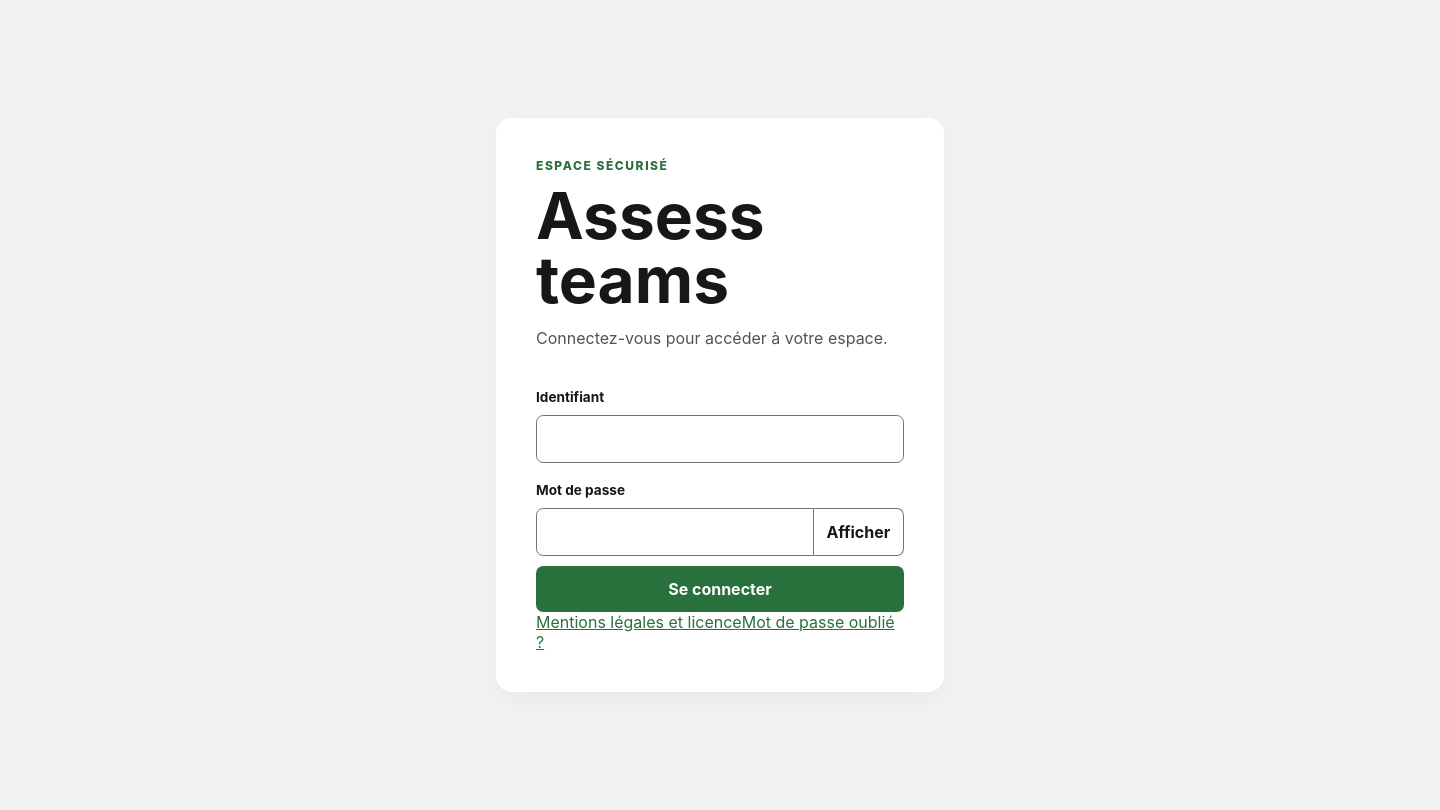
shows the wait and allows login after the restriction expires
Type "member" into the field labelled "Identifiant" at (720, 439), box left=536, top=415, right=904, bottom=462
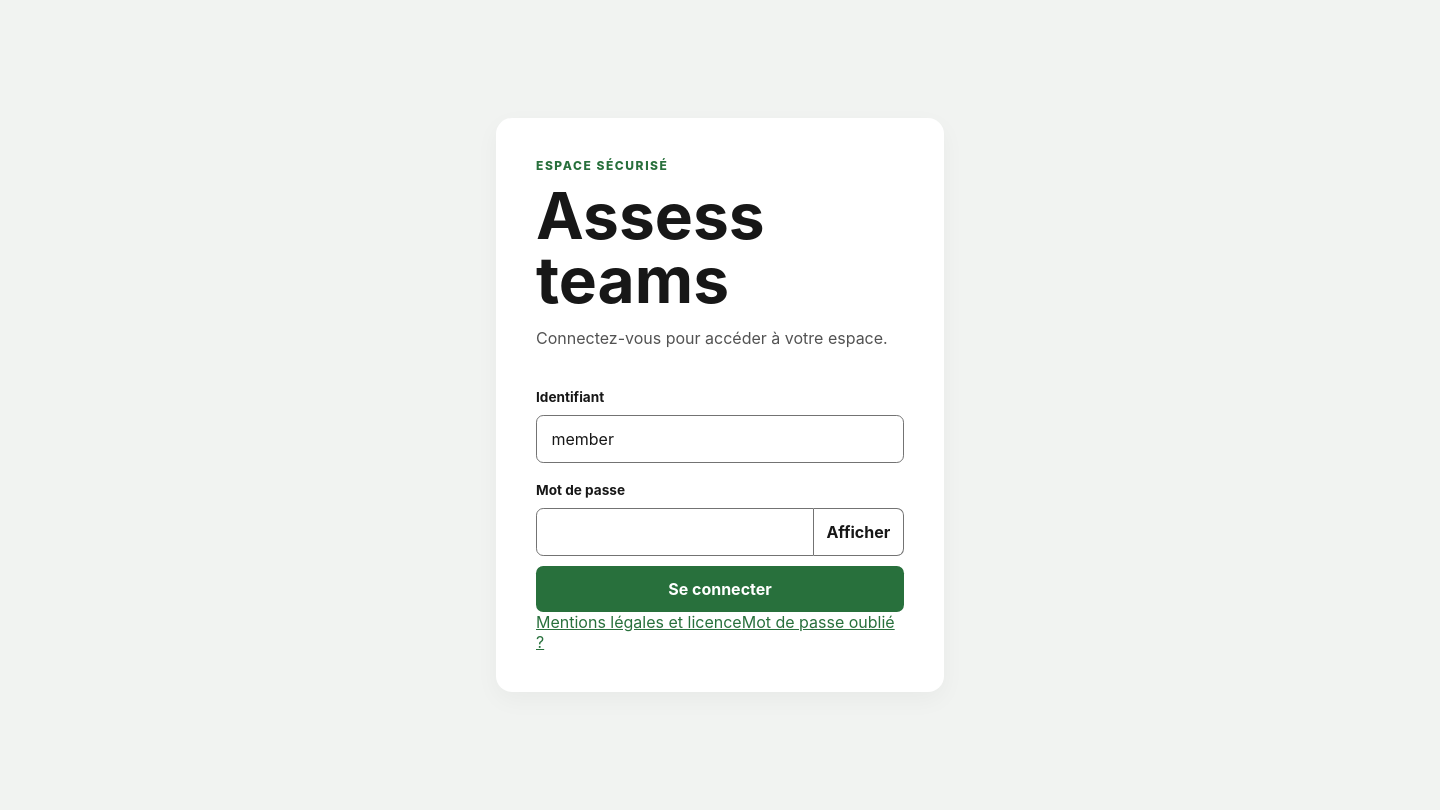
Type "test-only-credential" into the password field labelled "Mot de passe" at (675, 532), box left=536, top=508, right=814, bottom=556
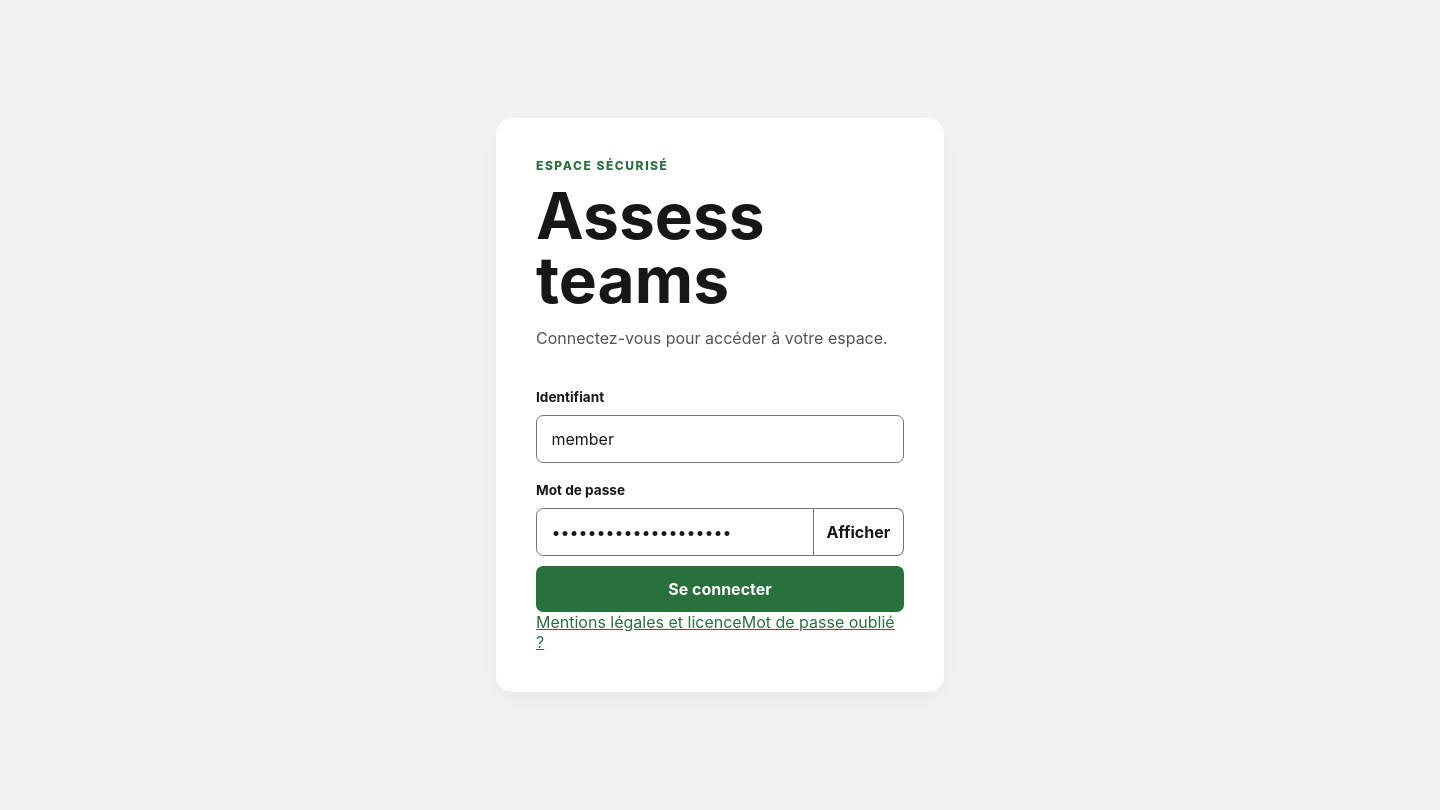
Click the button "Se connecter" at (720, 589), box left=536, top=566, right=904, bottom=612
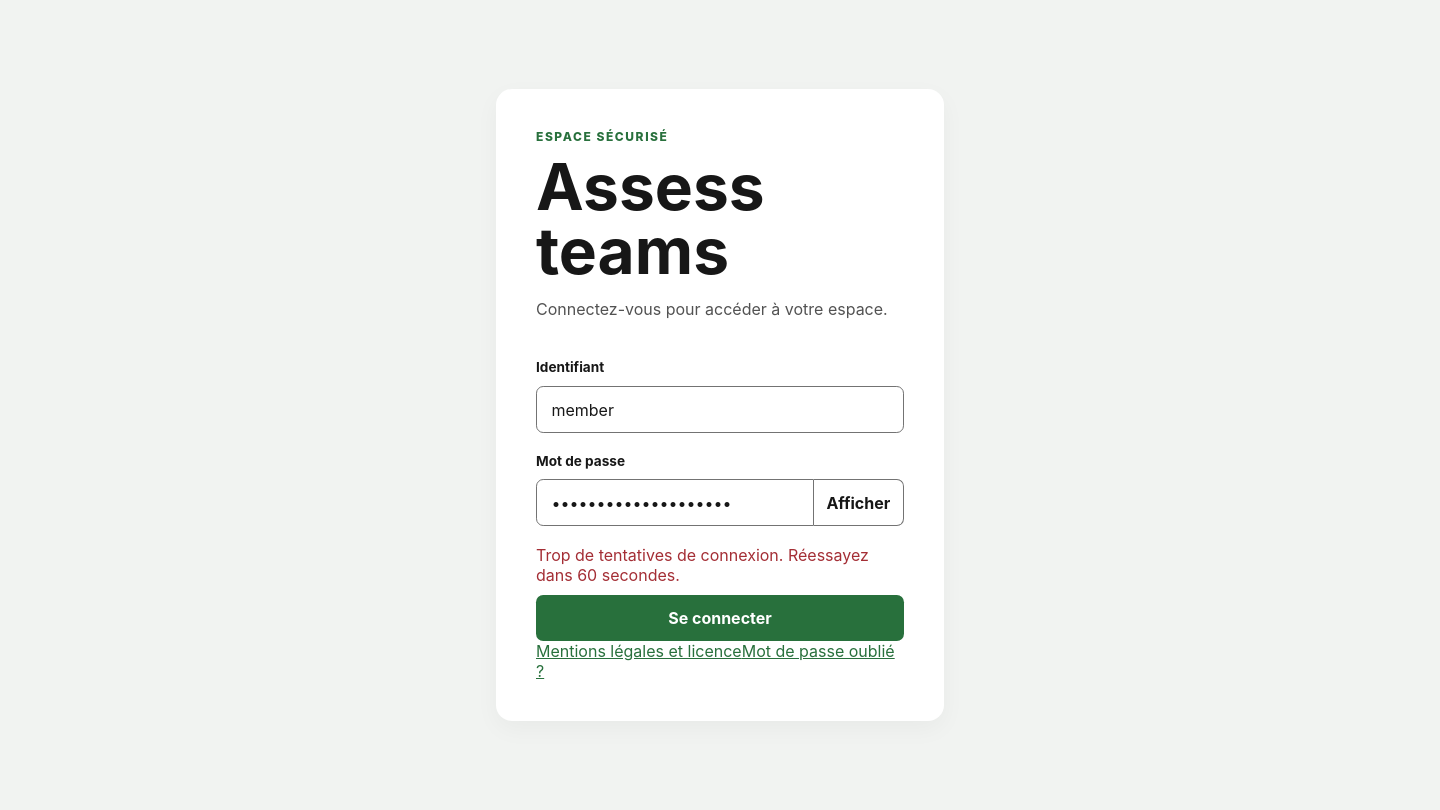
Check: the message reads "Trop de tentatives de connexion. Réessayez dans 60 secondes.", box left=536, top=545, right=869, bottom=585
Click the button "Se connecter" at (720, 618), box left=536, top=595, right=904, bottom=641
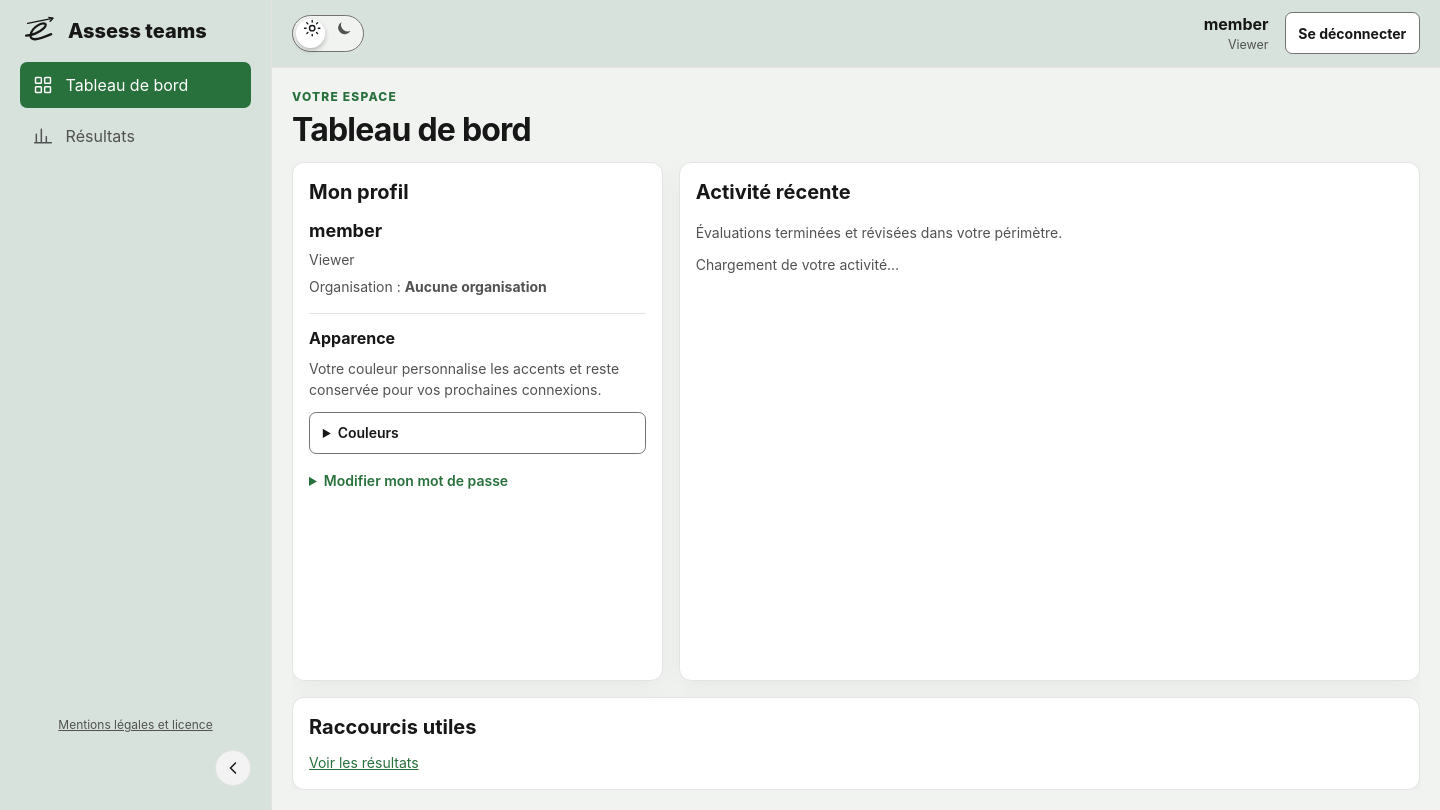
Check: the heading "Tableau de bord" is shown, box left=292, top=110, right=531, bottom=149
